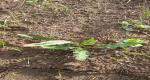zhavel: (13, 33, 146, 61)
